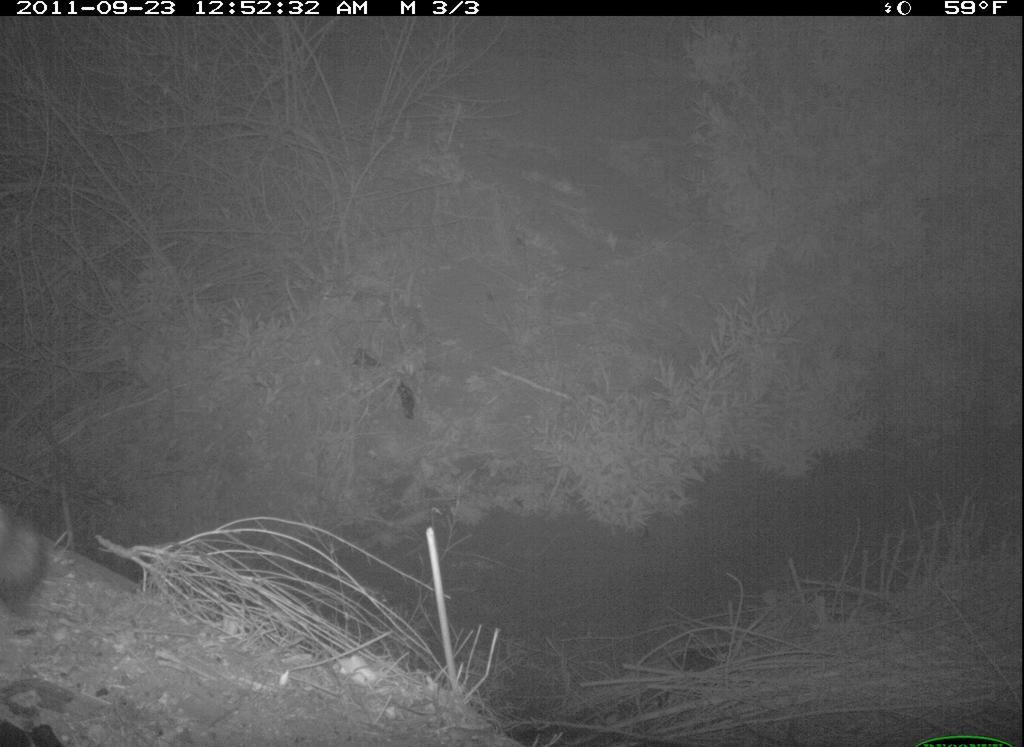raccoon: (3, 486, 47, 609)
